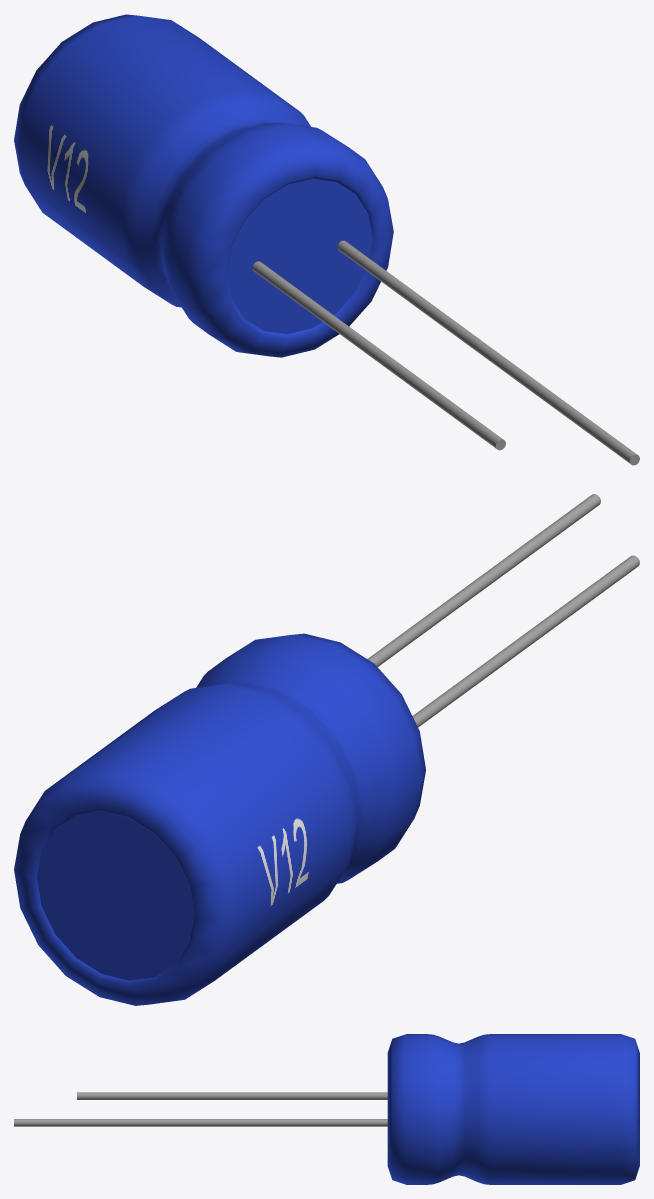
File: NiobiumObject.DAE
3 views of the same model, one above another, from view 1: azimuth 30°, elevation 25°; view 2: azimuth 150°, elevation 25°; view 3: azimuth 270°, elevation 25° (orthographic). The views are drawn at different scales.
Visible parts, largest first — view 1: Cylinder001; view 2: Cylinder001; view 3: Cylinder001.
Part boxes in pixels (bbox=[...]): Cylinder001: bbox=[14, 14, 639, 465]; Cylinder001: bbox=[14, 494, 639, 1005]; Cylinder001: bbox=[14, 1034, 639, 1184].
Bounding box in the file's own units: 2.36 × 9.76 × 2.33.
1 material, 1 textured.
